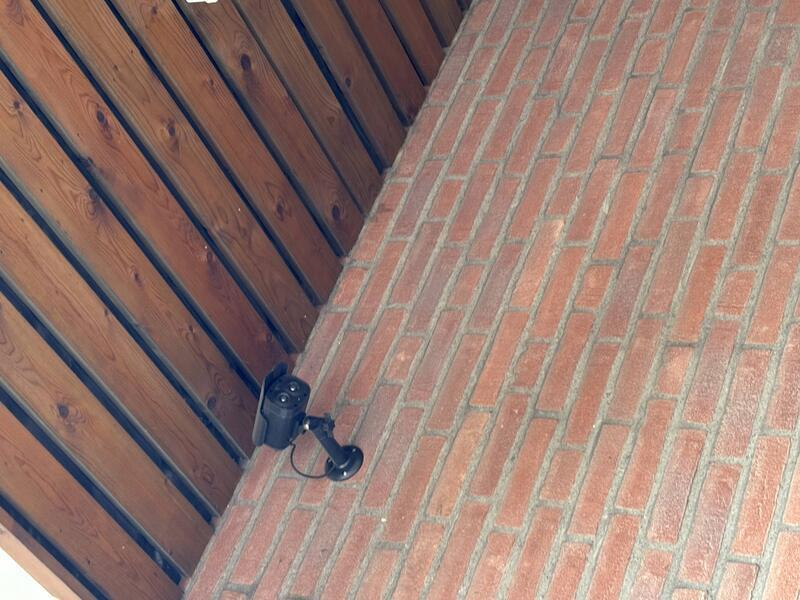bullet: (137, 250, 234, 313)
